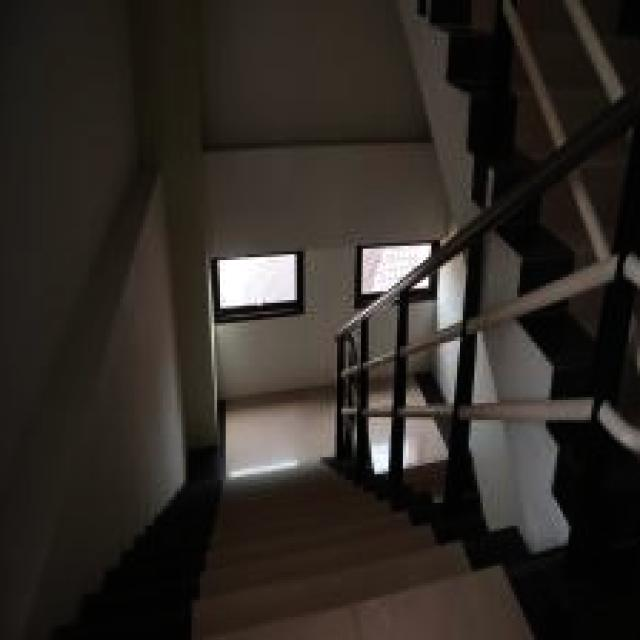downstair: (141, 449, 549, 640)
